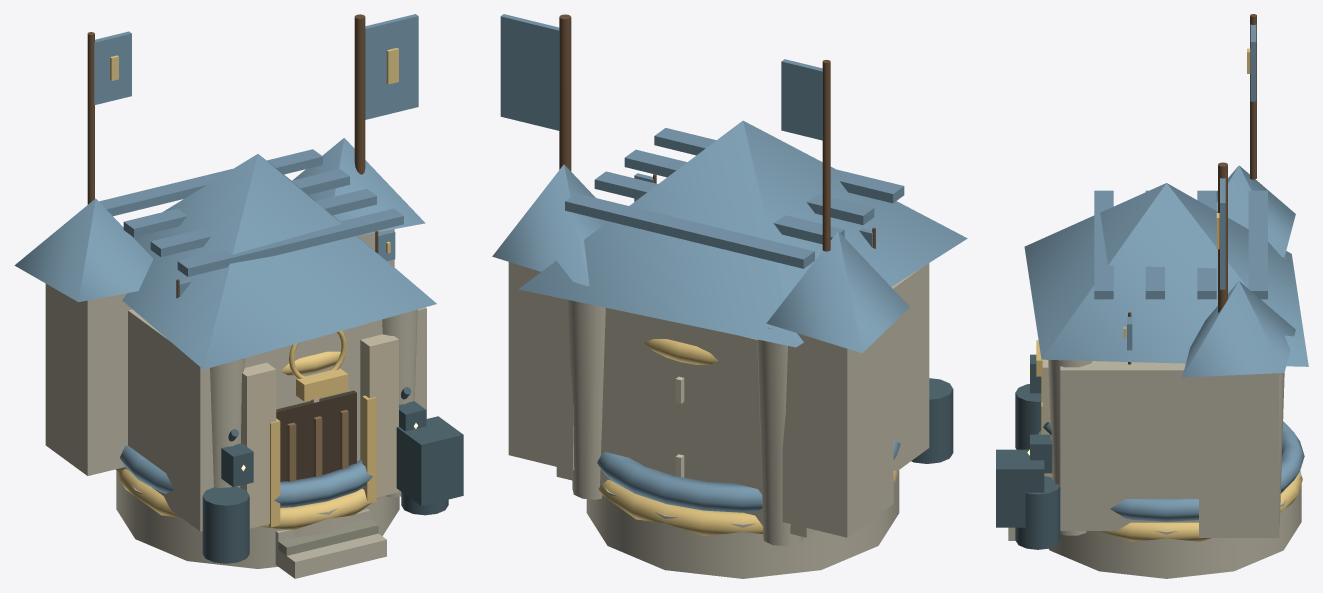
File: tower-barracks-3-0.glb
3 renders of one model, left to right at view 1: azimuth 30°, elevation 25°; view 2: azimuth 150°, elevation 25°; view 3: azimuth 270°, elevation 25°, orthographic. The views are drawn at different scales.
Visible parts, largest first — view 1: Foundation, barracks-L3-0; view 2: Foundation, barracks-L3-0; view 3: Foundation, barracks-L3-0.
Part boxes in pixels (<box>): Foundation: <box>14,14,463,578</box>; barracks-L3-0: <box>116,470,399,568</box>; Foundation: <box>492,14,967,546</box>; barracks-L3-0: <box>586,470,899,578</box>; Foundation: <box>996,14,1308,549</box>; barracks-L3-0: <box>1049,472,1301,578</box>.
Size of the model in its own units: 2.5 by 3.09 by 1.94.
